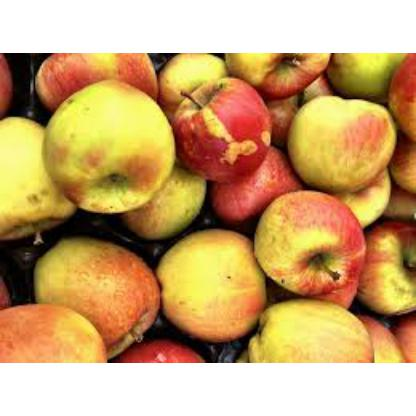apple: (156, 228, 270, 336), (254, 297, 378, 359)
damaged_apple: (43, 82, 180, 212), (254, 187, 366, 292), (176, 81, 272, 167)
